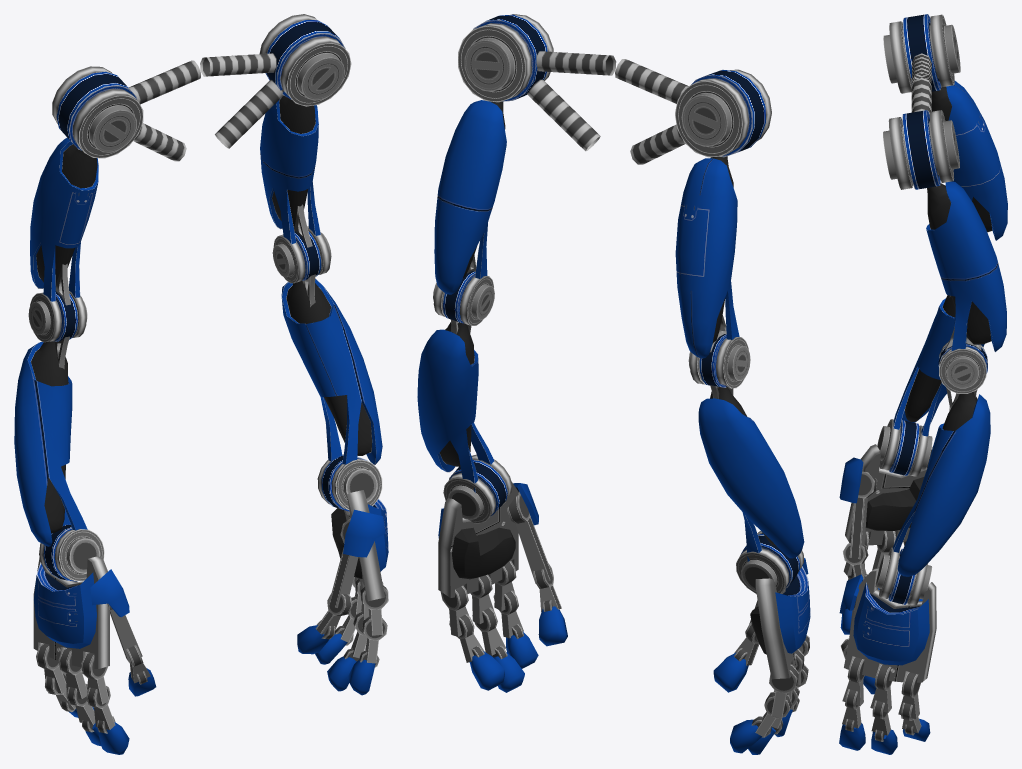
Rendered from arms_b.fbx.
3 views of the same model, side by side, from view 1: azimuth 30°, elevation 25°; view 2: azimuth 150°, elevation 25°; view 3: azimuth 270°, elevation 25° (orthographic). The views are drawn at different scales.
Parts seen in each view (by area): view 1: ARMS_B; view 2: ARMS_B; view 3: ARMS_B.
Boxes of the visible parts, x1,y1,x2,y2 form: ARMS_B: (14,14,388,754); ARMS_B: (417,14,810,754); ARMS_B: (839,14,1007,754).
Size of the model in its own units: 41.88 by 75.08 by 18.13.
